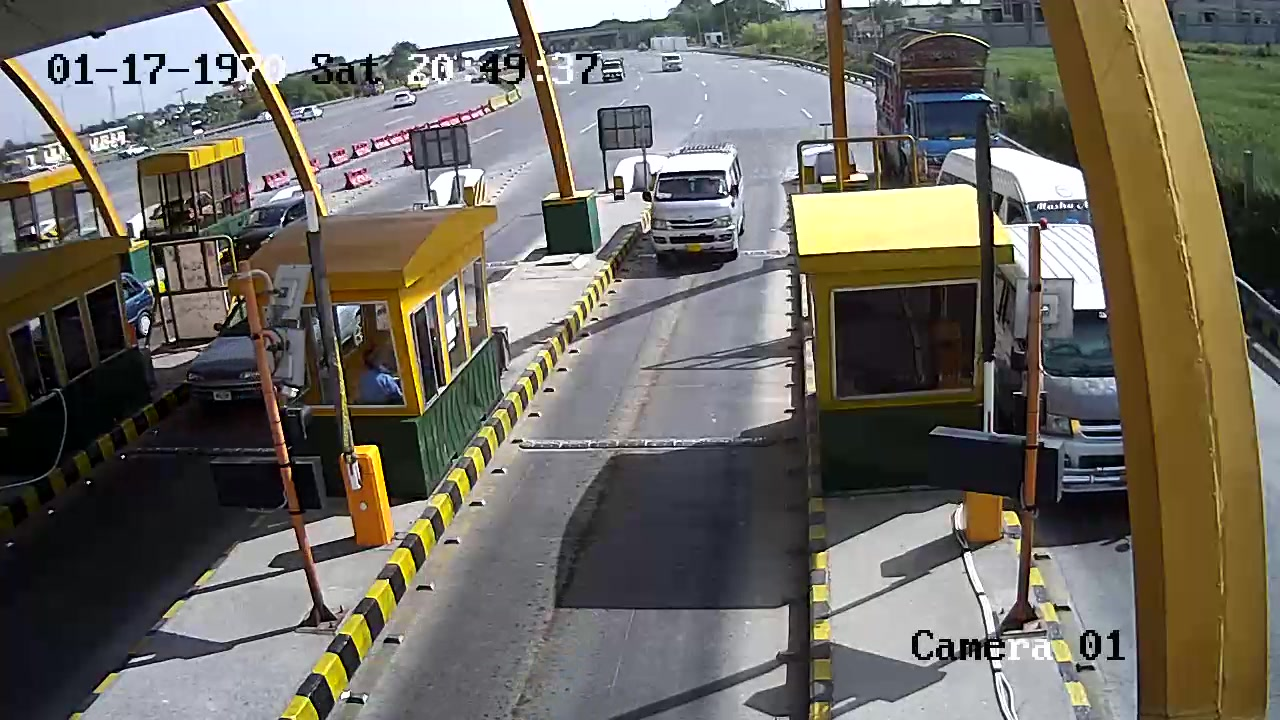F3: (643, 140, 749, 271)
